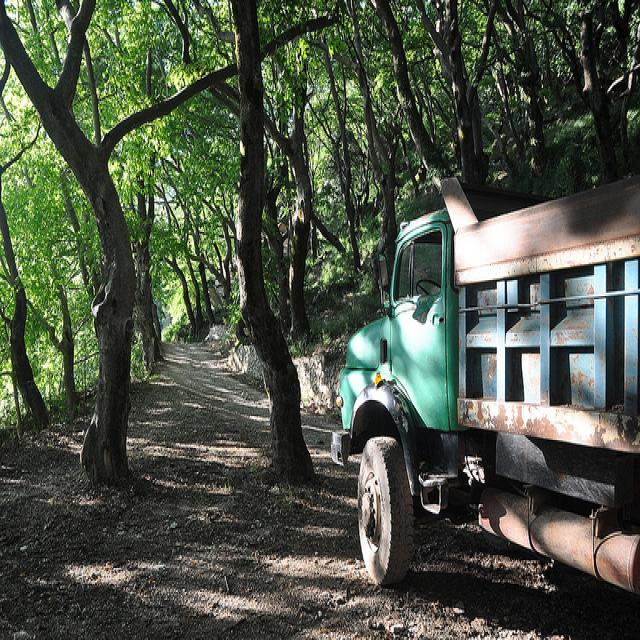Vehicle: (326, 172, 640, 611)
